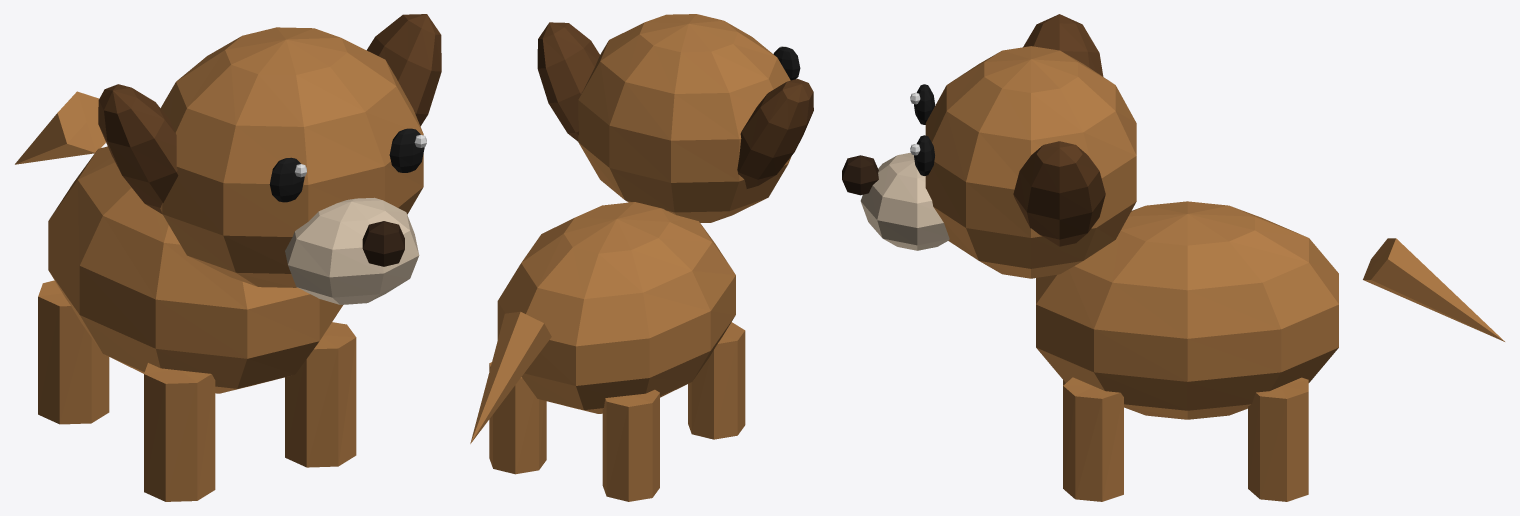
File: dog.glb
3 renders of one model, left to right at view 1: azimuth 30°, elevation 25°; view 2: azimuth 150°, elevation 25°; view 3: azimuth 270°, elevation 25°, orthographic. The views are drawn at different scales.
Visible parts, largest first — view 1: pet; view 2: pet; view 3: pet.
Boxes of the visible parts, box(x1,y1,x2,y2) form: pet: box(15, 14, 441, 501); pet: box(470, 14, 813, 501); pet: box(842, 14, 1504, 501).
Size of the model in its own units: 0.4708 by 0.62 by 0.9338.
